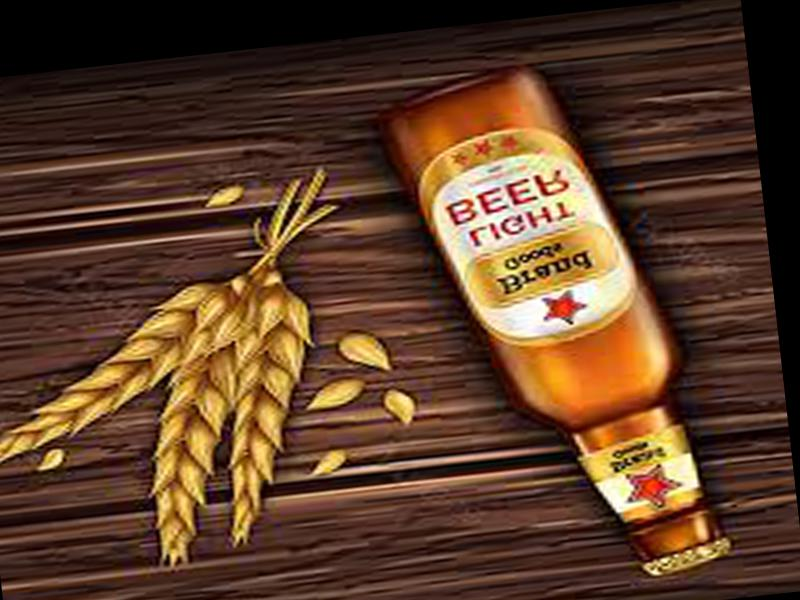Beer: (378, 51, 736, 600)
